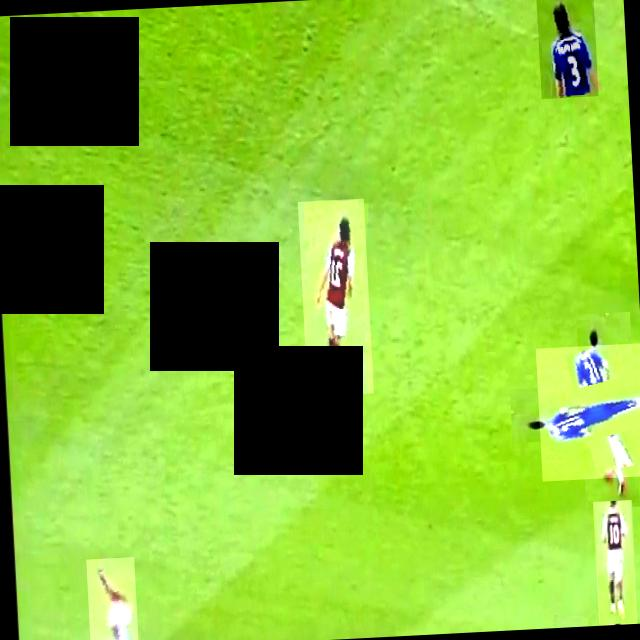soccer-player: (298, 198, 374, 396), (535, 343, 640, 481), (536, 0, 599, 99), (594, 500, 638, 626), (86, 557, 139, 640), (550, 616, 588, 628)
